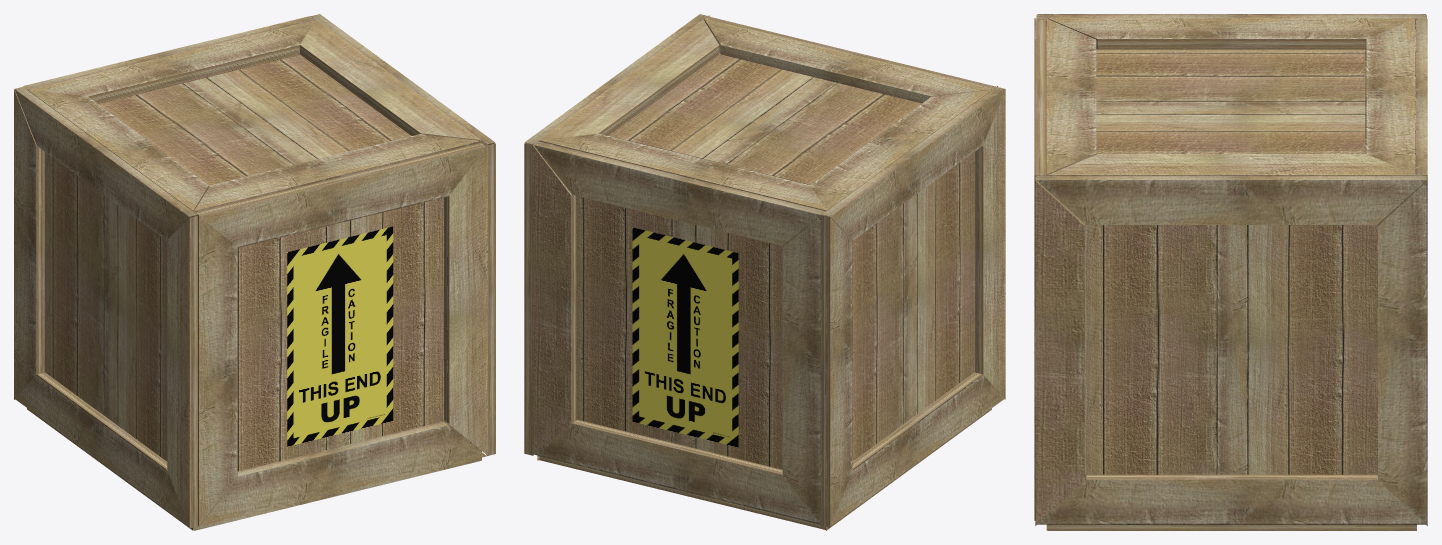
Rendered from 3td_Crate01.dae.
3 renders of one model, left to right at view 1: azimuth 30°, elevation 25°; view 2: azimuth 150°, elevation 25°; view 3: azimuth 270°, elevation 25°, orthographic. The views are drawn at different scales.
Visible parts, largest first — view 1: CrateOne200, CrateOne100; view 2: CrateOne200, CrateOne100; view 3: CrateOne200, CrateOne100.
Part boxes in pixels (x1,y1,x2,y2): CrateOne200: (14, 14, 495, 530); CrateOne100: (16, 94, 479, 476); CrateOne200: (524, 14, 1005, 530); CrateOne100: (524, 21, 1003, 455); CrateOne200: (1034, 14, 1427, 530); CrateOne100: (1034, 14, 1377, 479).
Size of what is drawn, in the model's own units: 3.49 by 3.49 by 3.48.
